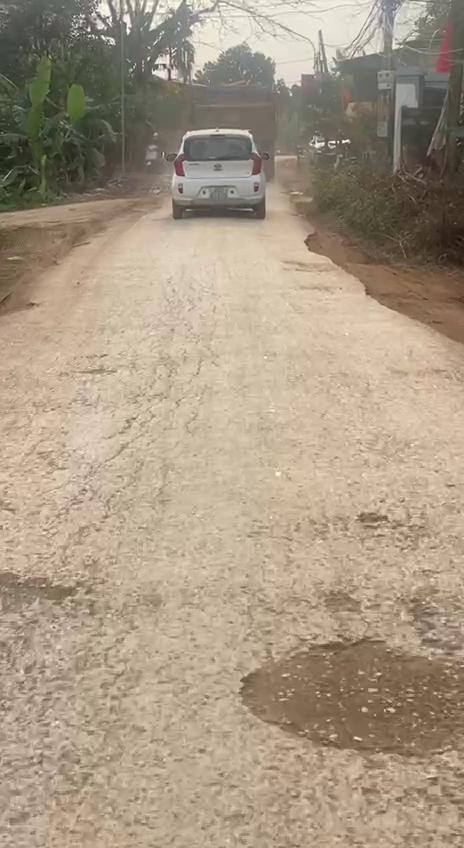pothole: (234, 630, 460, 760), (0, 566, 95, 634)
